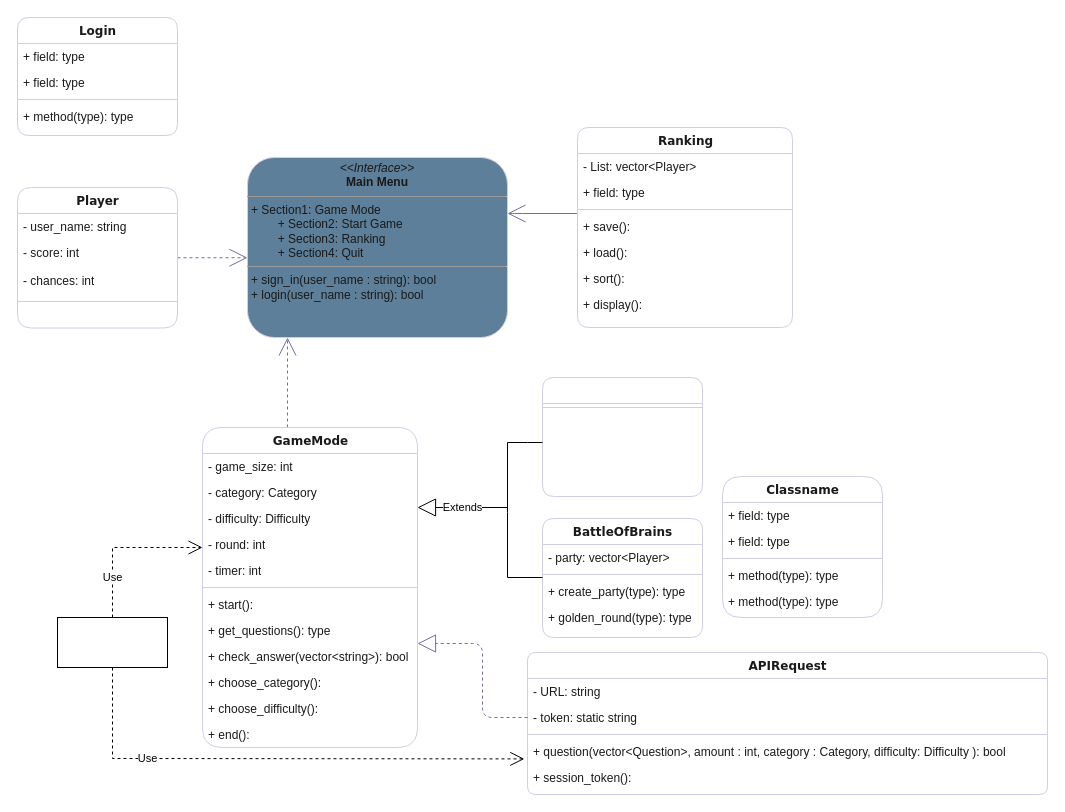
Image size: 1065x812. Some labels were removed from this diagram. The shapes that lost their labels are listed below. From the top down, each one's centre as x and y in pixels, then its label:
At pixel 622 436: "MindMarathon".
At pixel 112 642: "«enum» Category".
